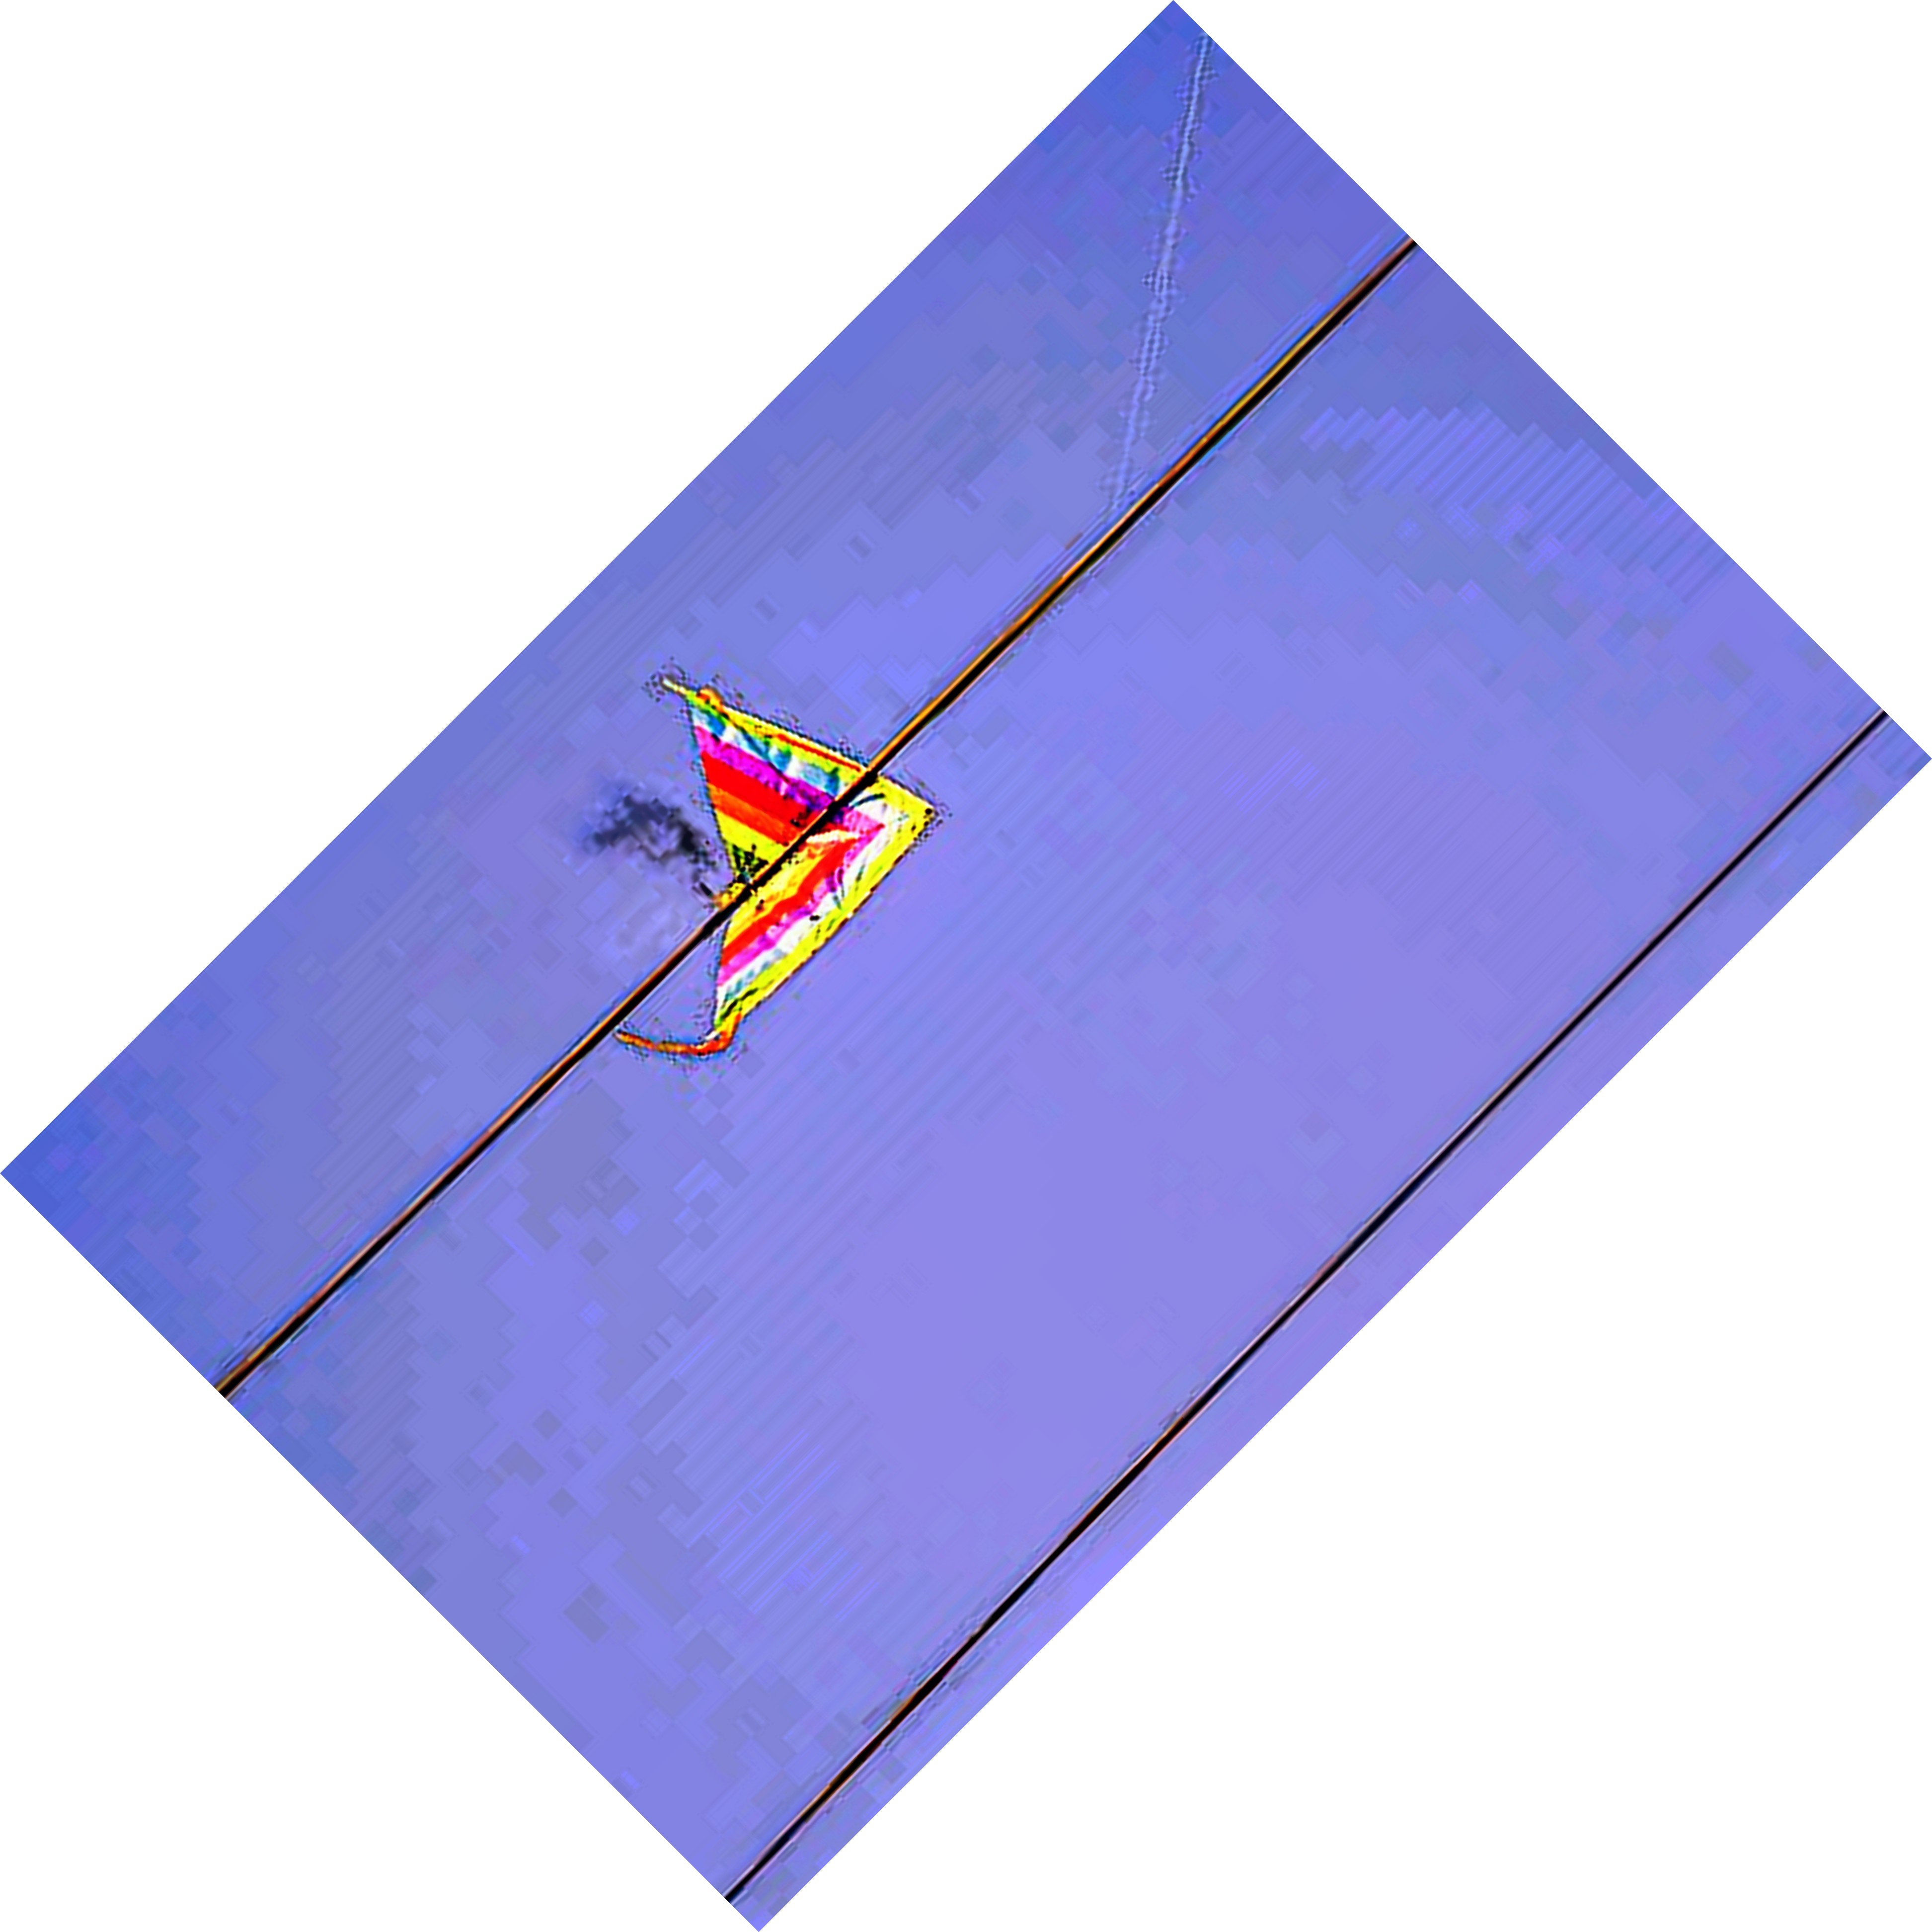wire foreign body: (598, 656, 996, 1099)
